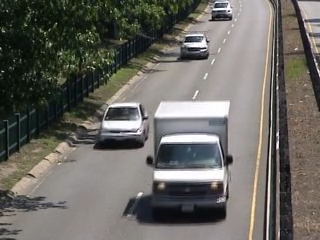car: (93, 99, 151, 149), (178, 32, 210, 64), (209, 2, 235, 24)
truck: (148, 97, 236, 224)
